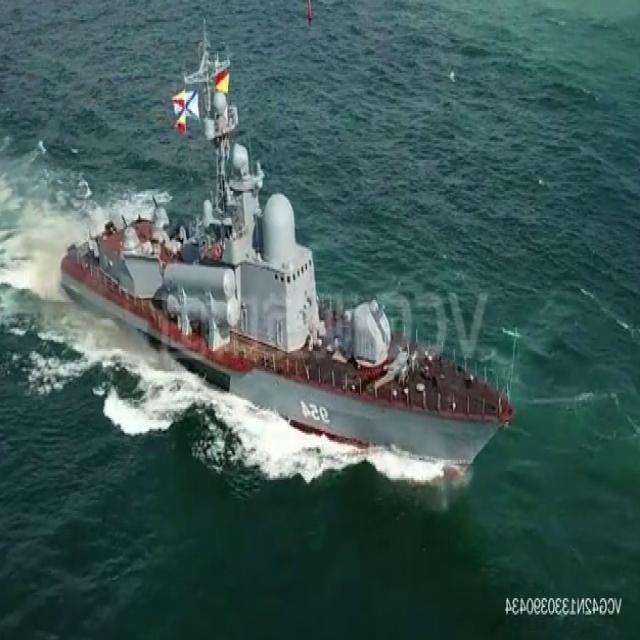navalvessels: (63, 28, 514, 472)
